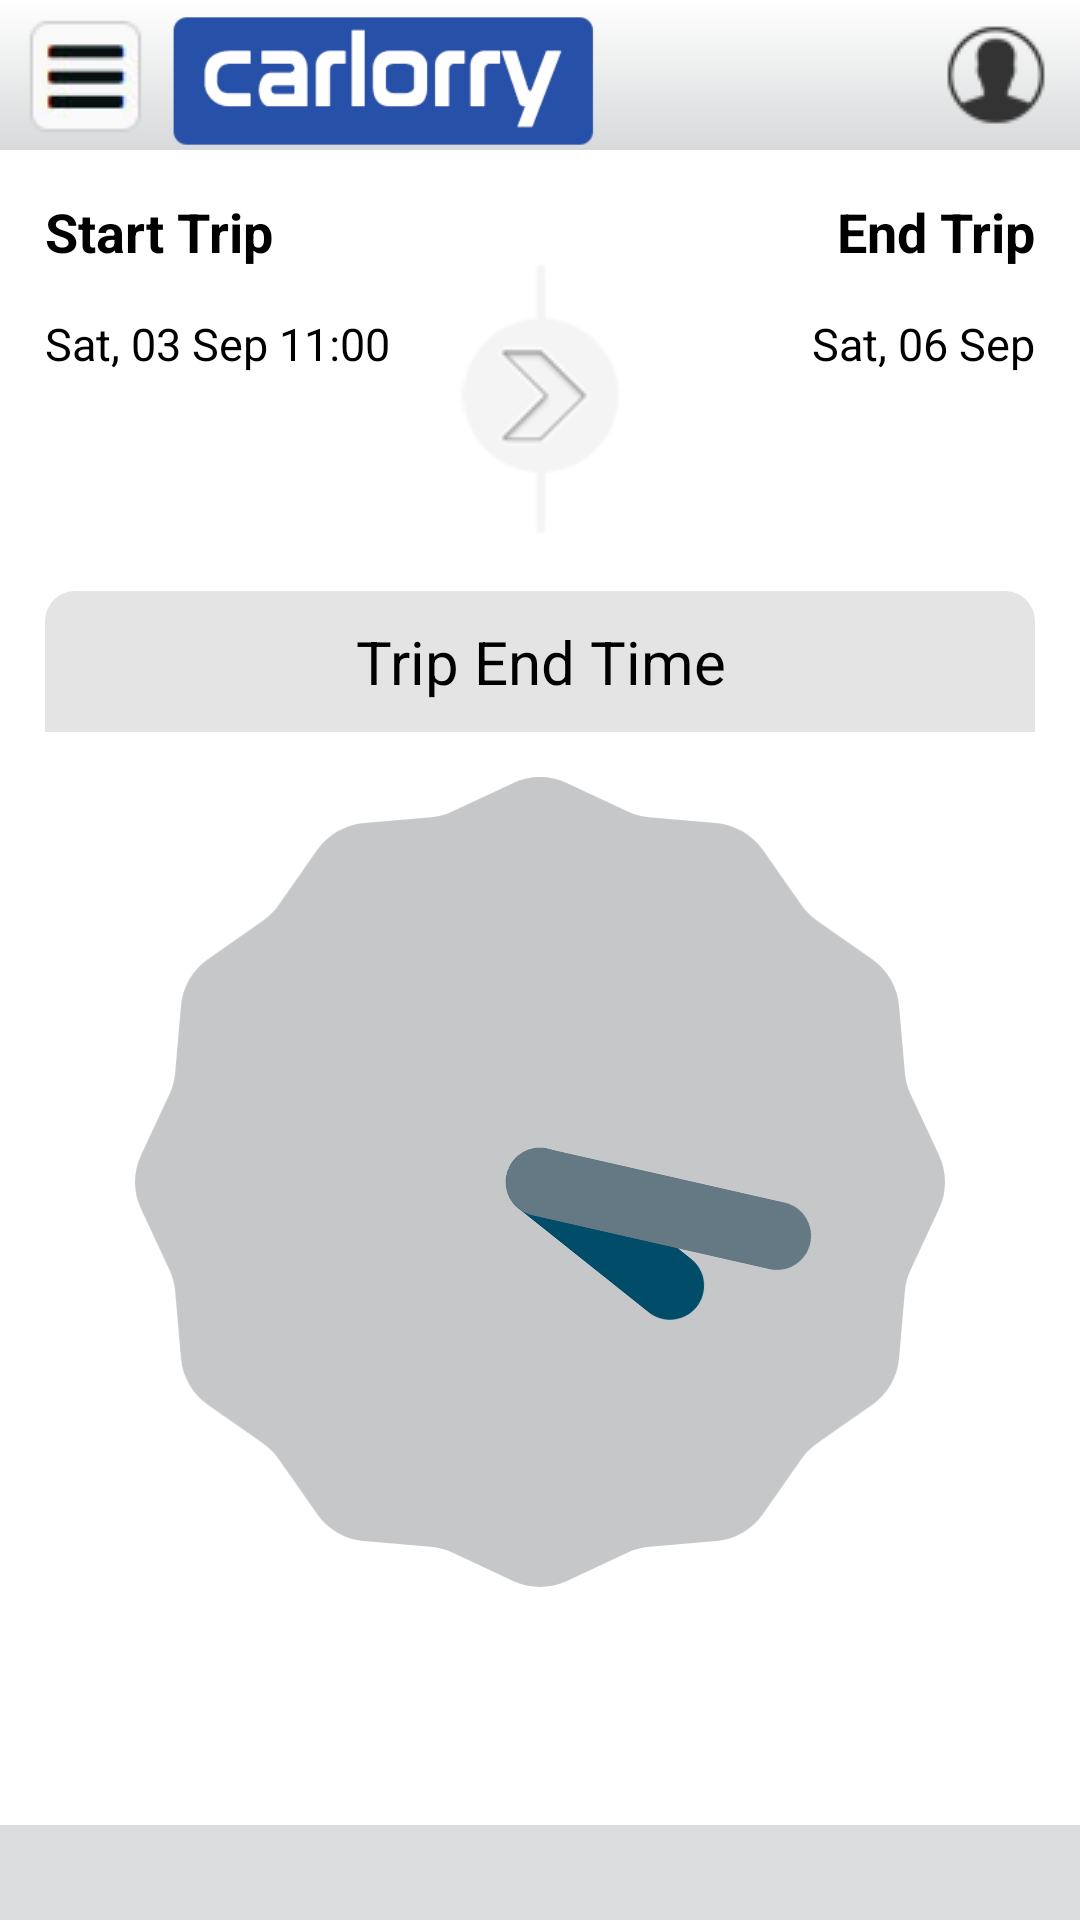

Icon click points for this 1080px×1920px phone screenshot, format (x,y):
circle seperator: (544,395)
list main: (84,85)
user log: (996,88)
